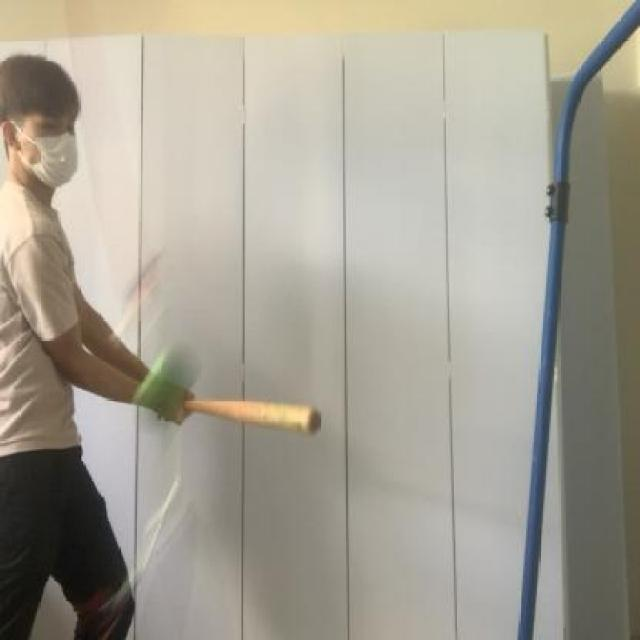baseball: (132, 318, 191, 422)
